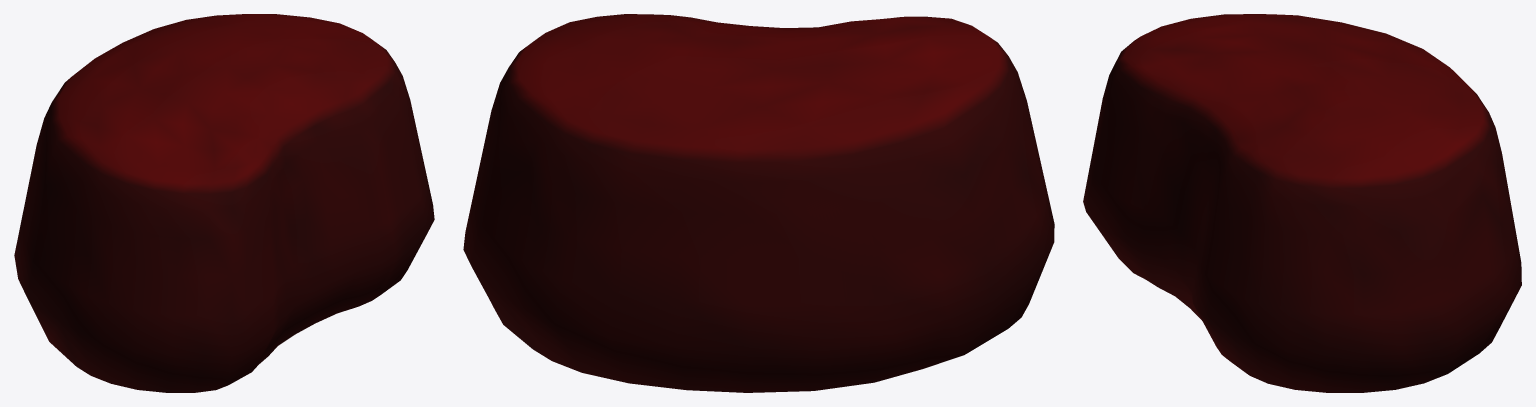
Rendered from geology-landforms-greenhillmedium_v3.fbx.
The picture shows the model from 3 angles, left to right: view 1: azimuth 30°, elevation 25°; view 2: azimuth 150°, elevation 25°; view 3: azimuth 270°, elevation 25°; orthographic projection. The views are drawn at different scales.
Visible parts, largest first — view 1: GreenHillMedium_v3; view 2: GreenHillMedium_v3; view 3: GreenHillMedium_v3.
Boxes of the visible parts, x1,y1,x2,y2 form: GreenHillMedium_v3: (14, 14, 434, 392); GreenHillMedium_v3: (463, 14, 1054, 392); GreenHillMedium_v3: (1083, 14, 1521, 392).
Bounding box in the file's own units: 33.63 × 17.32 × 30.69.
